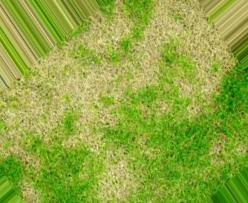patch: (57, 65, 136, 119), (147, 5, 219, 46), (15, 93, 56, 130), (183, 51, 215, 88), (99, 153, 126, 191), (139, 51, 160, 79)
